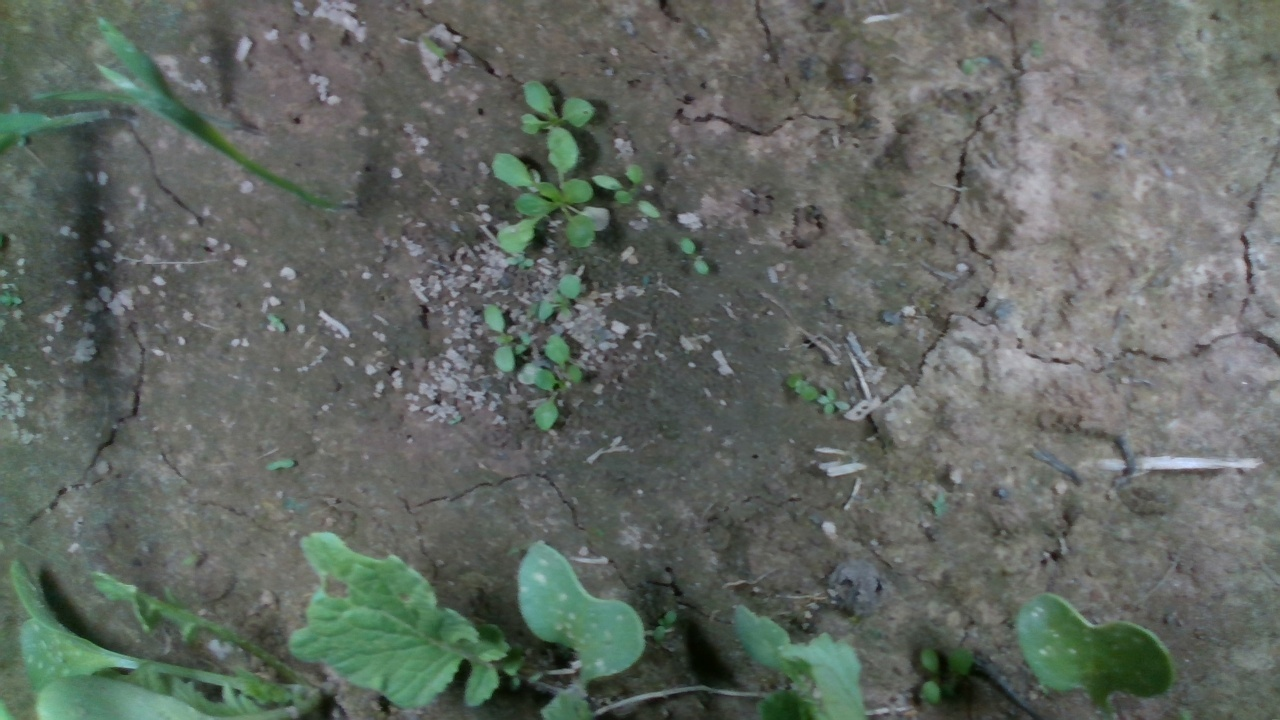weed: (679, 235, 709, 277), (263, 457, 296, 471)
